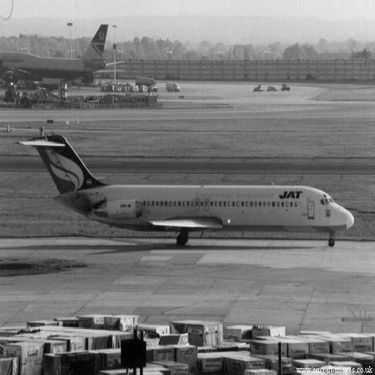airplane: (10, 112, 362, 258), (1, 32, 124, 100)
